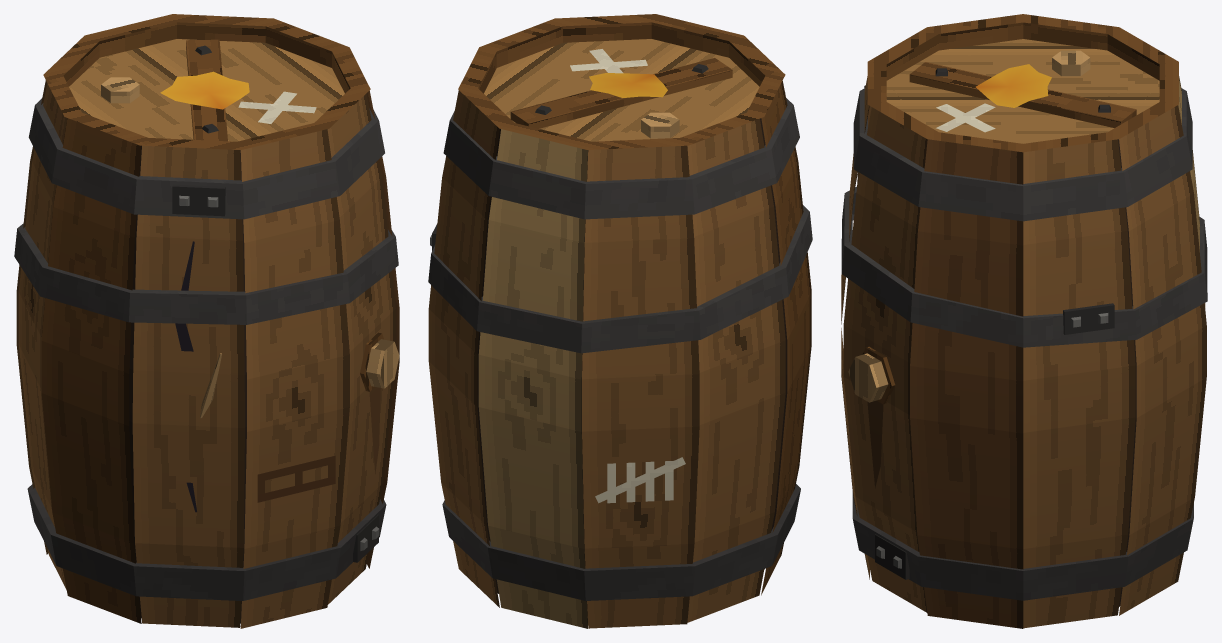
File: fp_barrel.glb
3 views of the same model, side by side, from view 1: azimuth 30°, elevation 25°; view 2: azimuth 150°, elevation 25°; view 3: azimuth 270°, elevation 25° (orthographic).
Visible parts, largest first — view 1: fp_barrel; view 2: fp_barrel; view 3: fp_barrel.
Boxes of the visible parts, x1=… form: fp_barrel: x1=14, y1=14, x2=399, y2=628; fp_barrel: x1=428, y1=14, x2=812, y2=628; fp_barrel: x1=841, y1=14, x2=1207, y2=628.
Size of the model in its own units: 0.8032 by 1.1 by 0.7649.
Materials: 16 (10 with a texture image).
